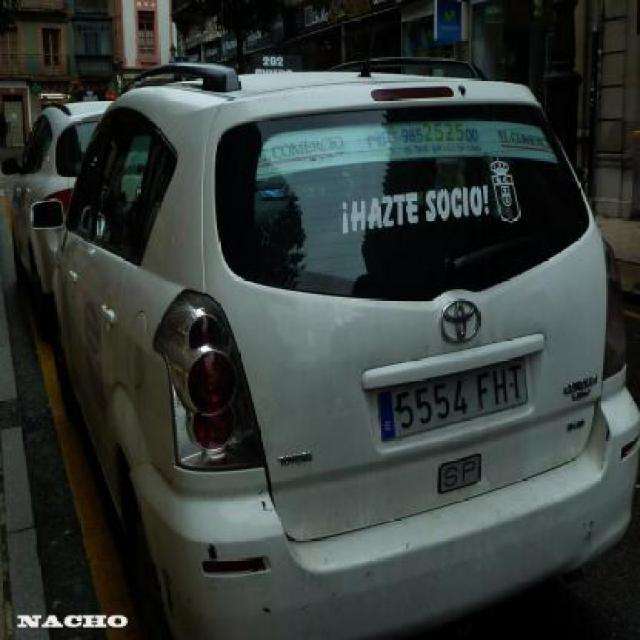License-Plates: (376, 355, 530, 443)
